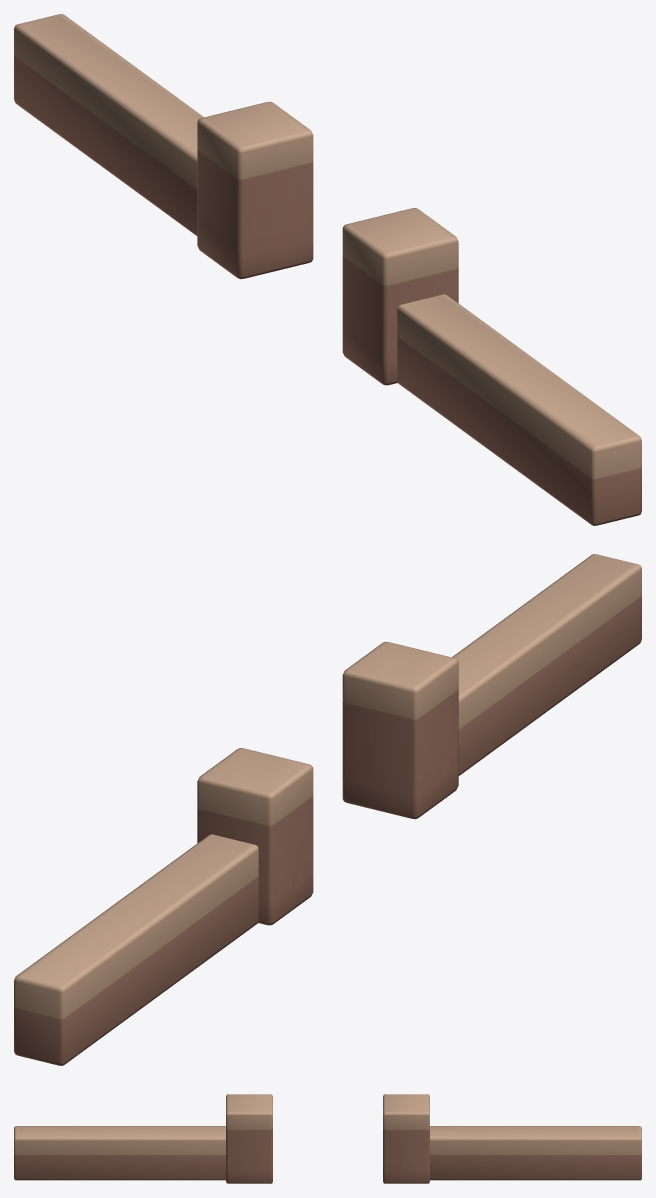
The model's file is Props (1).fbx.
3 renders of one model, top to bottom at view 1: azimuth 30°, elevation 25°; view 2: azimuth 150°, elevation 25°; view 3: azimuth 270°, elevation 25°, orthographic. The views are drawn at different scales.
Parts seen in each view (by area): view 1: Box20-2, Box20-2 (1), Box03 (1), Box03; view 2: Box20-2 (1), Box20-2, Box03, Box03 (1); view 3: Box20-2, Box20-2 (1), Box03, Box03 (1).
Part boxes in pixels (bbox=[...]): Box20-2: bbox=[397, 294, 641, 525]; Box20-2 (1): bbox=[14, 14, 203, 235]; Box03 (1): bbox=[197, 101, 313, 279]; Box03: bbox=[342, 208, 458, 385]; Box20-2 (1): bbox=[14, 834, 258, 1065]; Box20-2: bbox=[452, 554, 641, 775]; Box03: bbox=[342, 641, 458, 819]; Box03 (1): bbox=[197, 748, 313, 925]; Box20-2: bbox=[14, 1126, 225, 1180]; Box20-2 (1): bbox=[430, 1126, 641, 1180]; Box03: bbox=[226, 1094, 272, 1183]; Box03 (1): bbox=[383, 1094, 429, 1183].
Size of the model in its own units: 3 by 5.01 by 40.
